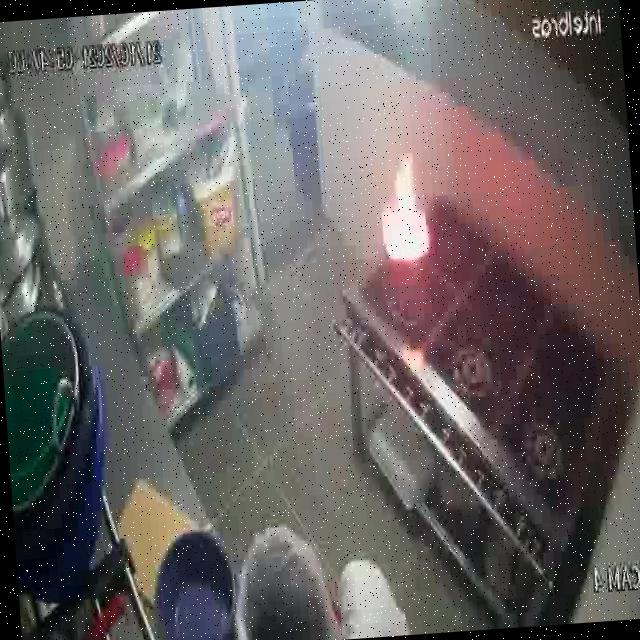fire: (371, 151, 439, 262)
